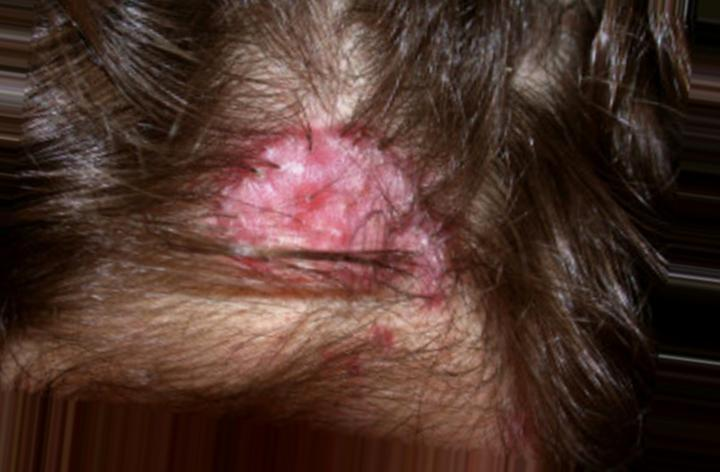Folliculitis: (200, 125, 440, 298)
